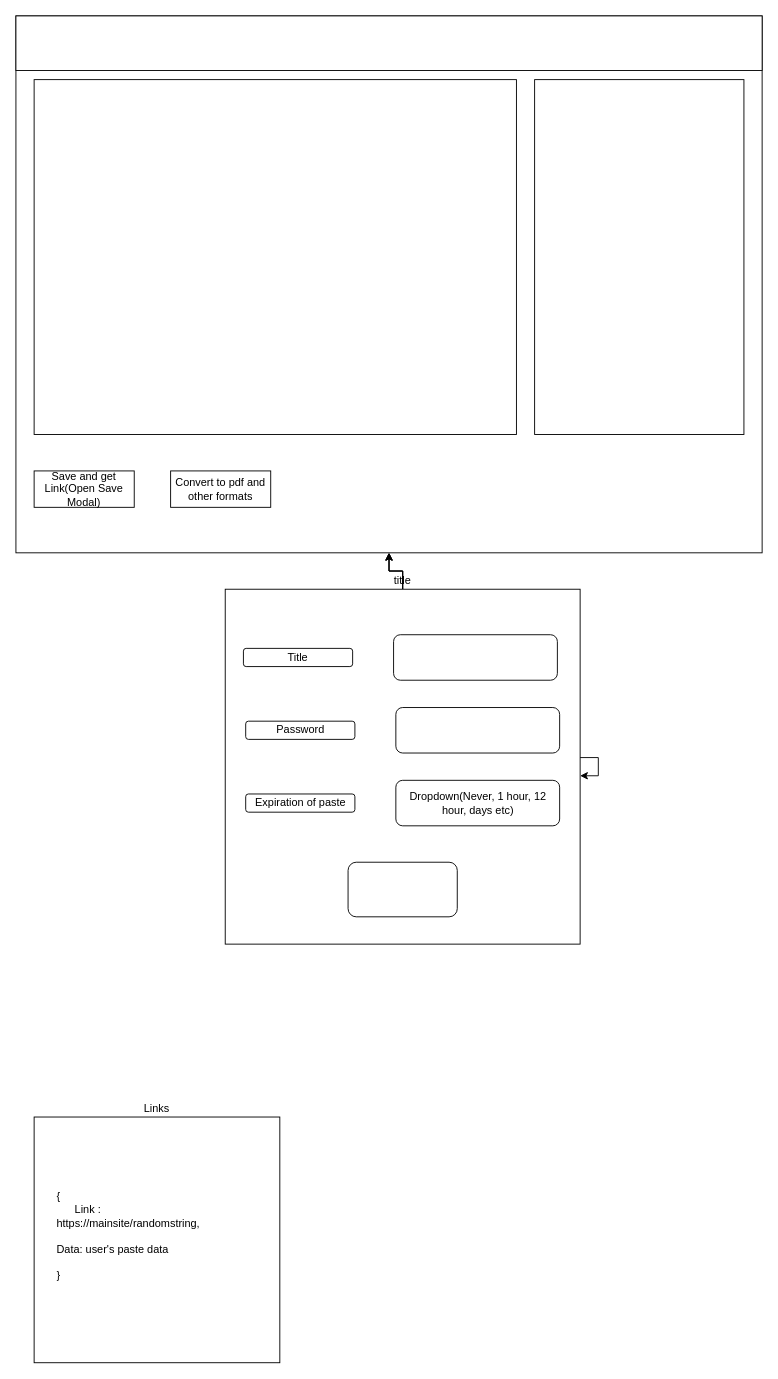
Image size: 778x1379. Some labels were removed from this diagram. Each missing label, with the centre of its shape:
Create New Paste: pixel 402 889
Header: pixel 388 43
Public pastes: pixel 639 257
Text Editor: pixel 274 257
